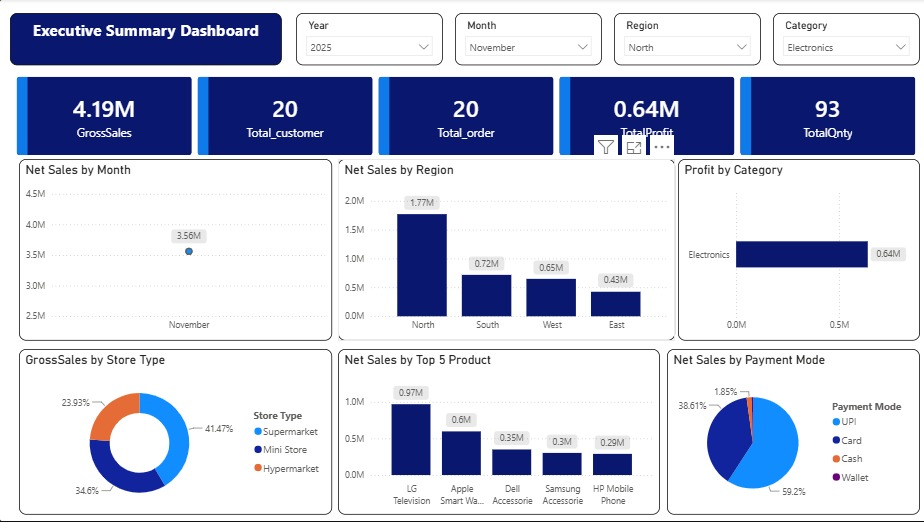

The dashboard page shown, as its layout file describes it:
{"tool":"powerbi","page":{"name":"Page 1","canvas":[1280,720],"ordinal":0},"visuals":[{"type":"cardVisual","fields":{"Data":["Table.GrossSales","Table.Total_customer","Table.Total_order","Table.TotalProfit","Table.TotalQnty"]},"box":[19.3,101.8,1248.3,118.4],"z":0},{"type":"textbox","box":[15.1,19.3,374.4,71.6],"z":1000},{"type":"slicer","fields":{"Values":["DateTable.Date.Variation.Date Hierarchy.Month"]},"box":[627.6,19.3,202.3,71.6],"z":2000},{"type":"slicer","fields":{"Values":["DateTable.Date.Variation.Date Hierarchy.Year"]},"box":[408.8,19.3,202.3,71.6],"z":3000},{"type":"slicer","fields":{"Values":["Customers.Region"]},"box":[846.5,19.3,202.3,71.6],"z":4000},{"type":"slicer","fields":{"Values":["Products.Category"]},"box":[1065.3,19.3,202.3,71.6],"z":5000},{"type":"lineChart","title":"Net Sales by Month","fields":{"Y":["Sum(Sales.Net Sales)"],"Category":["DateTable.Date.Variation.Date Hierarchy.Month"]},"box":[27.5,220.2,430.8,250.5],"z":6000},{"type":"clusteredColumnChart","title":"Net Sales by Region","fields":{"Y":["Sum(Sales.Net Sales)"],"Category":["Stores.Region"]},"box":[466.6,220.2,463.8,250.5],"z":7000},{"type":"clusteredBarChart","title":"Profit by Category","fields":{"Y":["Sum(Sales.Profit)"],"Category":["Products.Category"]},"box":[934.5,220.2,333.1,250.5],"z":8000},{"type":"donutChart","fields":{"Category":["Stores.Store Type"],"Y":["Table.GrossSales"]},"box":[27.5,481.7,430.8,228.5],"z":9000},{"type":"clusteredColumnChart","title":"Net Sales by Top 5 Product","fields":{"Y":["Sum(Sales.Net Sales)"],"Category":["Products.Product Name"]},"box":[466.6,481.7,443.2,228.5],"z":10000},{"type":"pieChart","title":"Net Sales by Payment Mode","fields":{"Y":["Sum(Sales.Net Sales)"],"Category":["Sales.Payment Mode"]},"box":[919.4,481.7,348.2,228.5],"z":11000}]}

Visuals, with their boxes in screenshot pixels (x1, y1, x2, y2), scaled from the page's 1280x720 canvas onto the 924x522 screenshot:
cardVisual - Table.GrossSales x Table.Total_customer: crop(14, 74, 915, 160)
textbox: crop(11, 14, 281, 66)
slicer - DateTable.Date.Variation.Date Hierarchy.Month: crop(453, 14, 599, 66)
slicer - DateTable.Date.Variation.Date Hierarchy.Year: crop(295, 14, 441, 66)
slicer - Customers.Region: crop(611, 14, 757, 66)
slicer - Products.Category: crop(769, 14, 915, 66)
"Net Sales by Month" lineChart: crop(20, 160, 331, 341)
"Net Sales by Region" clusteredColumnChart: crop(337, 160, 672, 341)
"Profit by Category" clusteredBarChart: crop(675, 160, 915, 341)
donutChart - Stores.Store Type x Table.GrossSales: crop(20, 349, 331, 515)
"Net Sales by Top 5 Product" clusteredColumnChart: crop(337, 349, 657, 515)
"Net Sales by Payment Mode" pieChart: crop(664, 349, 915, 515)
